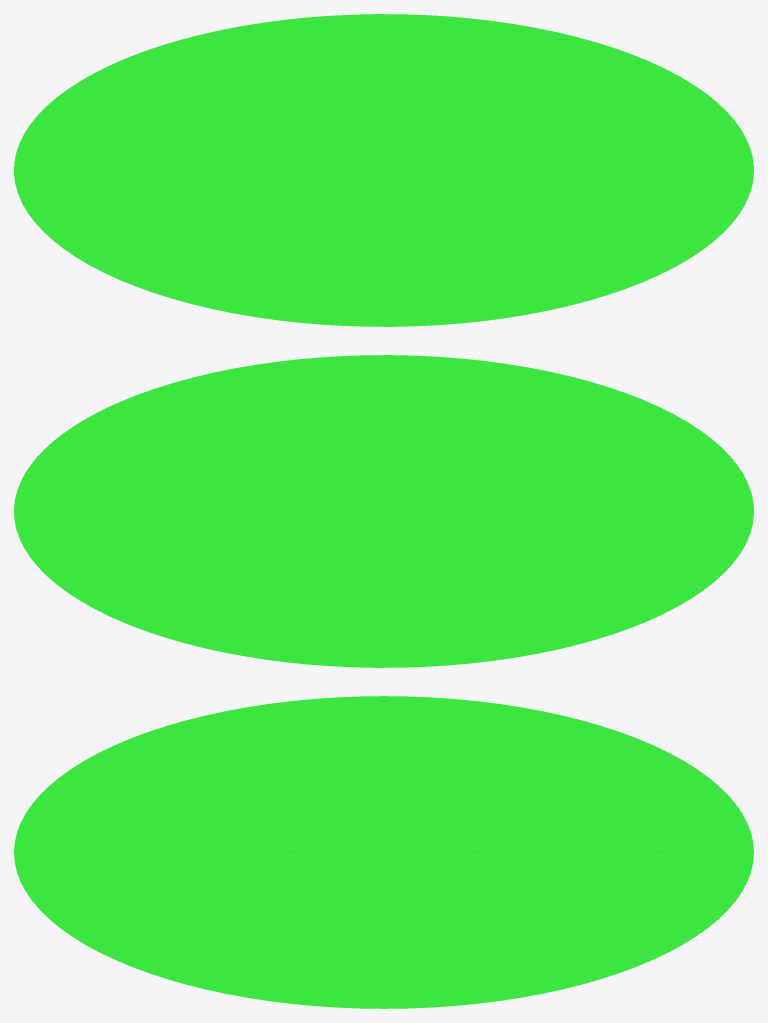
The model's file is infectedring.fbx.
3 views of the same model, one above another, from view 1: azimuth 30°, elevation 25°; view 2: azimuth 150°, elevation 25°; view 3: azimuth 270°, elevation 25° (orthographic).
Visible parts, largest first — view 1: Disc; view 2: Disc; view 3: Disc.
Boxes of the visible parts, <box> form: Disc: <box>14,14,753,326</box>; Disc: <box>14,355,753,667</box>; Disc: <box>14,696,753,1008</box>.
Size of the model in its own units: 33.49 by 0 by 33.49.
